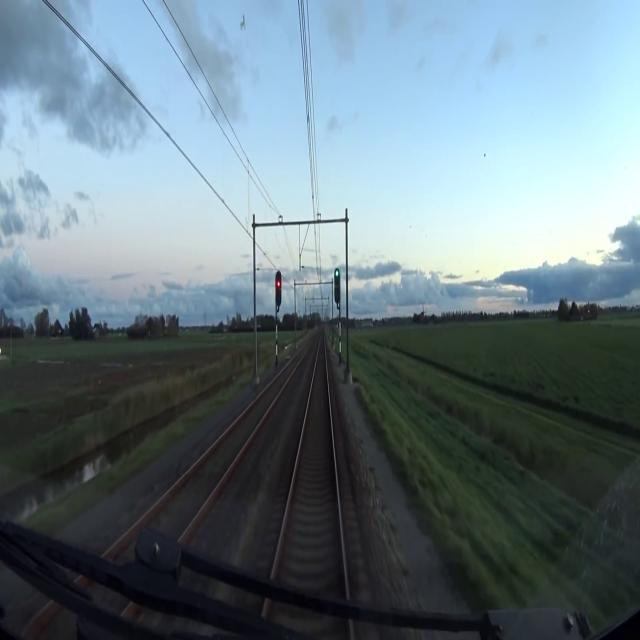rail-track: (117, 347, 306, 552), (273, 339, 345, 598)
